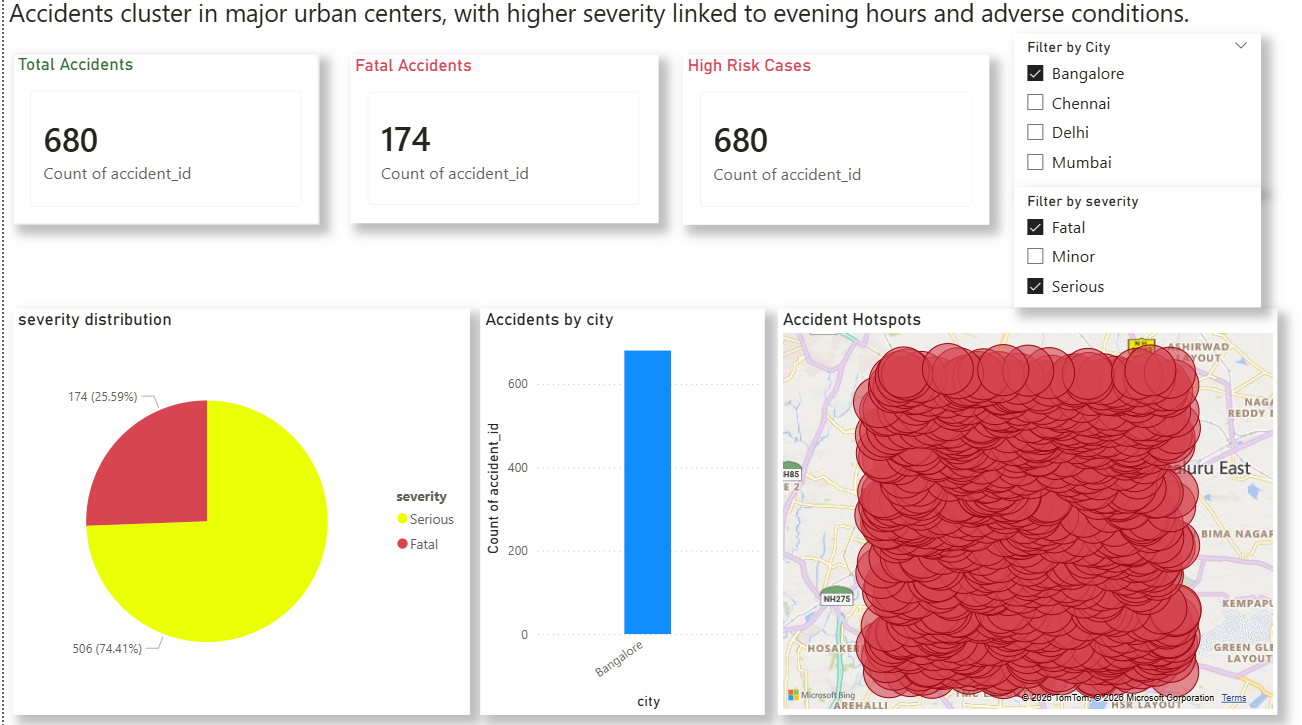

Layout of this report page (visuals, bound fields, positions):
{"tool":"powerbi","page":{"name":"Overview","canvas":[1280,720],"ordinal":1},"visuals":[{"type":"cardVisual","title":"Total Accidents","fields":{"Data":["CountNonNull(road_safety_db risk_analysis.accident_id)"]},"box":[8.8,61.2,300,167.5],"z":0},{"type":"cardVisual","title":"Fatal Accidents","fields":{"Data":["CountNonNull(road_safety_db risk_analysis.accident_id)"]},"box":[338.8,62.5,301.2,165],"z":1000},{"type":"cardVisual","title":"High Risk Cases","fields":{"Data":["CountNonNull(road_safety_db risk_analysis.accident_id)"]},"box":[663.8,62.5,300,166.2],"z":2000},{"type":"pieChart","title":"severity distribution","fields":{"Category":["road_safety_db risk_analysis.severity"],"Y":["CountNonNull(road_safety_db risk_analysis.accident_id)"]},"box":[8.8,310,447.5,397.5],"z":3000},{"type":"clusteredColumnChart","title":"Accidents by city","fields":{"Category":["road_safety_db risk_analysis.city"],"Y":["CountNonNull(road_safety_db risk_analysis.accident_id)"]},"box":[466.2,310,278.8,397.5],"z":4000},{"type":"map","title":"Accident Hotspots","fields":{"Y":["road_safety_db risk_analysis.latitude"],"X":["road_safety_db risk_analysis.longitude"],"Size":["CountNonNull(road_safety_db risk_analysis.accident_id)"]},"box":[757.5,310,488.8,397.5],"z":5000},{"type":"textbox","box":[0,0,1280,51.2],"z":6000},{"type":"slicer","fields":{"Values":["road_safety_db risk_analysis.city"]},"box":[987.5,41.2,241.2,151.2],"z":7000},{"type":"slicer","fields":{"Values":["road_safety_db risk_analysis.severity"]},"box":[987.5,192.5,241.2,117.5],"z":8000}]}

Visuals, with their boxes in screenshot pixels (x1, y1, x2, y2), scaled from the page's 1280x720 canvas onto the 1302x725 screenshot:
"Total Accidents" cardVisual: [9, 62, 314, 230]
"Fatal Accidents" cardVisual: [345, 63, 651, 229]
"High Risk Cases" cardVisual: [675, 63, 980, 230]
"severity distribution" pieChart: [9, 312, 464, 712]
"Accidents by city" clusteredColumnChart: [474, 312, 758, 712]
"Accident Hotspots" map: [771, 312, 1268, 712]
textbox: [0, 0, 1301, 52]
slicer - road_safety_db risk_analysis.city: [1004, 41, 1250, 194]
slicer - road_safety_db risk_analysis.severity: [1004, 194, 1250, 312]
